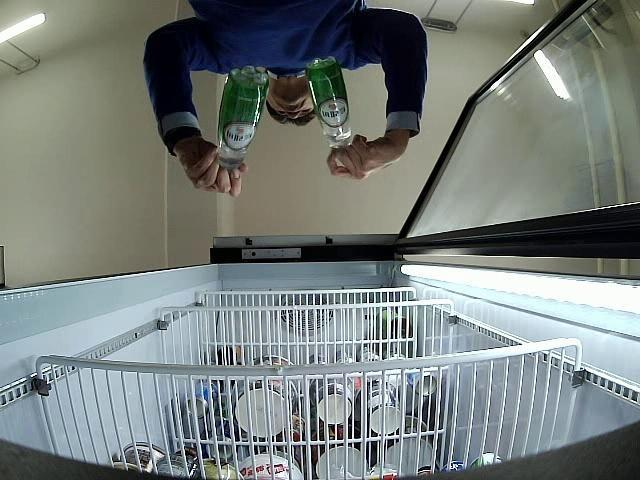18_trevi: (216, 66, 270, 170), (306, 56, 353, 150)
